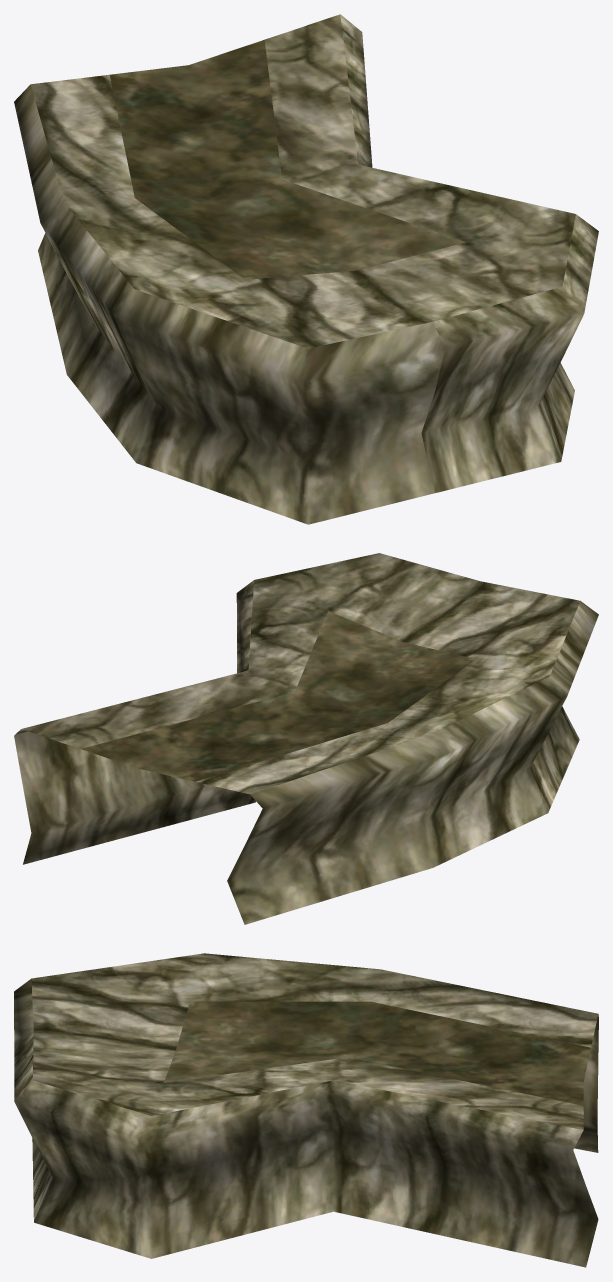
Rendered from CB_NEWPLAYSURFACE_CB_PLAYSURFACE155.fbx.
The picture shows the model from 3 angles, top to bottom: view 1: azimuth 30°, elevation 25°; view 2: azimuth 150°, elevation 25°; view 3: azimuth 270°, elevation 25°; orthographic projection. The views are drawn at different scales.
Parts seen in each view (by area): view 1: CB_NEWPLAYSURFACE_CB_PLAYSURFACE155; view 2: CB_NEWPLAYSURFACE_CB_PLAYSURFACE155; view 3: CB_NEWPLAYSURFACE_CB_PLAYSURFACE155.
Boxes of the visible parts, <box> form: CB_NEWPLAYSURFACE_CB_PLAYSURFACE155: <box>14,14,598,524</box>; CB_NEWPLAYSURFACE_CB_PLAYSURFACE155: <box>14,553,598,924</box>; CB_NEWPLAYSURFACE_CB_PLAYSURFACE155: <box>14,953,598,1267</box>.
Size of the model in its own units: 87453 by 31420 by 114513.
Materials: 3 (3 with a texture image).
